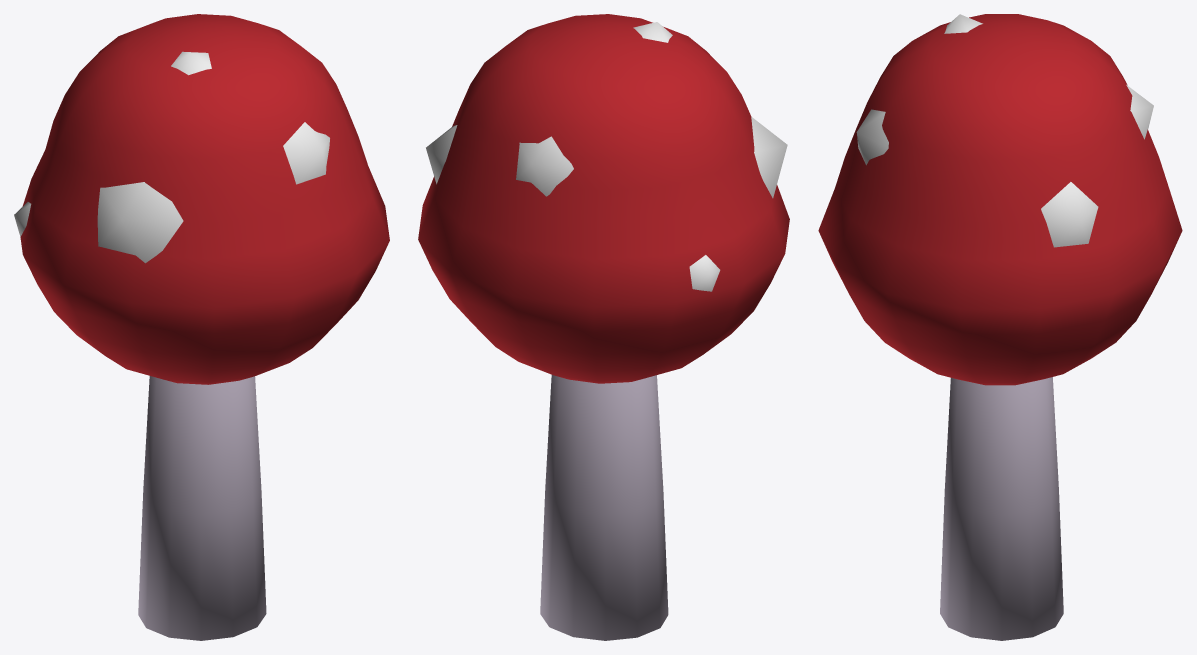
Rendered from Amanita_little.fbx.
3 views of the same model, side by side, from view 1: azimuth 30°, elevation 25°; view 2: azimuth 150°, elevation 25°; view 3: azimuth 270°, elevation 25° (orthographic).
Parts seen in each view (by area): view 1: Amanita_little; view 2: Amanita_little; view 3: Amanita_little.
Part boxes in pixels (left/top/right/bottom): Amanita_little: left=14, top=14, right=389, bottom=640; Amanita_little: left=418, top=14, right=789, bottom=640; Amanita_little: left=818, top=14, right=1182, bottom=640.
Size of the model in its own units: 9.17 by 15.92 by 9.
